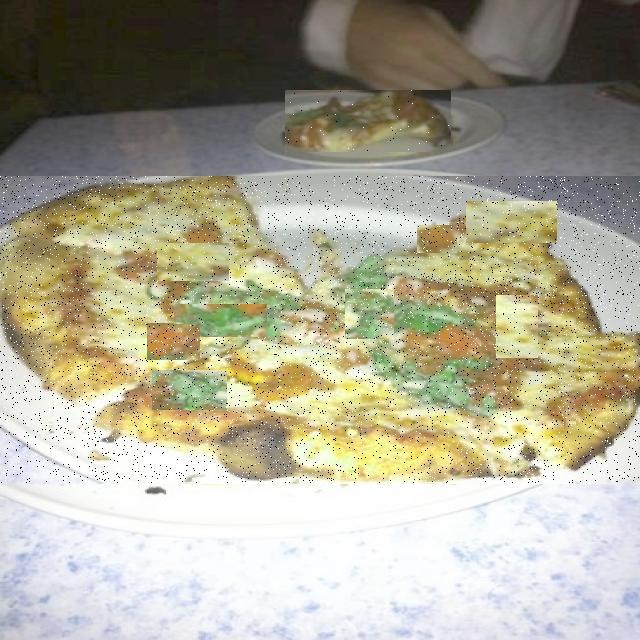Cheese: (466, 202, 557, 243), (157, 244, 229, 281), (496, 296, 538, 358)
Pizza: (0, 177, 640, 483), (285, 90, 451, 151)
Rucola: (152, 372, 227, 412), (174, 305, 267, 337), (346, 290, 396, 339), (412, 285, 463, 332)
Tomato: (147, 324, 200, 360), (417, 226, 457, 253)
